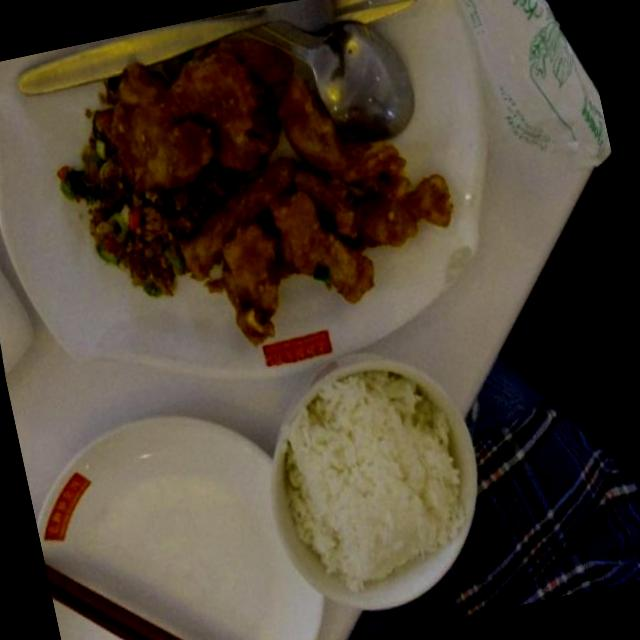Rice: (265, 352, 493, 620)
